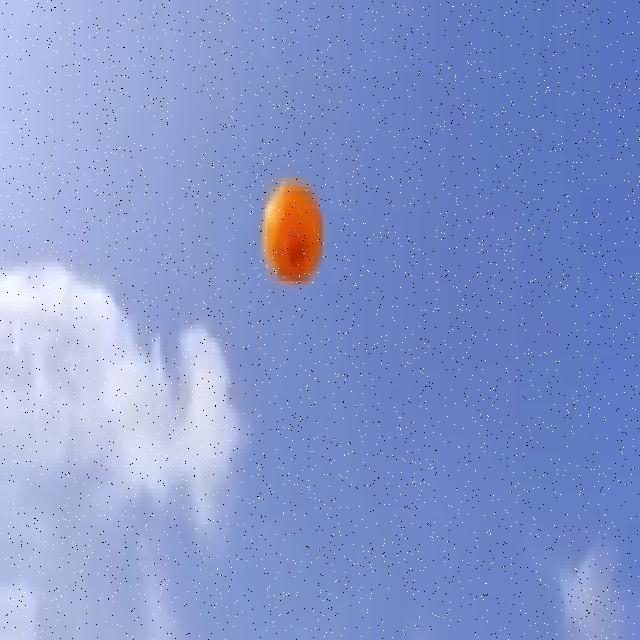red: (261, 177, 323, 284)
